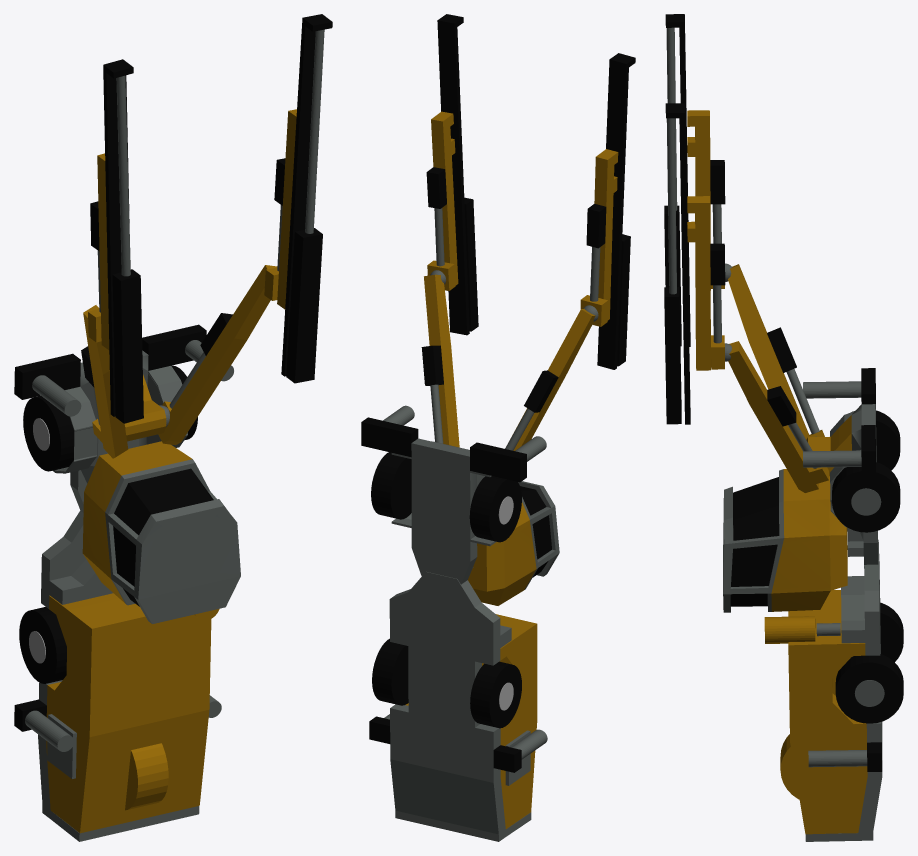
The model's file is sbu(hor).obj.
3 views of the same model, side by side, from view 1: azimuth 30°, elevation 25°; view 2: azimuth 150°, elevation 25°; view 3: azimuth 270°, elevation 25° (orthographic). The views are drawn at different scales.
Visible parts, largest first — view 1: Shape_IndexedFaceSet.035_Shape_IndexedFaceSet.436, Shape_IndexedFaceSet.008_Shape_IndexedFaceSet.409, Shape_IndexedFaceSet.033_Shape_IndexedFaceSet.434, Shape_IndexedFaceSet.005_Shape_IndexedFaceSet.406, Shape_IndexedFaceSet.007_Shape_IndexedFaceSet.408, Shape_IndexedFaceSet.025_Shape_IndexedFaceSet.426, Shape_IndexedFaceSet.009_Shape_IndexedFaceSet.410, Shape_IndexedFaceSet.002_Shape_IndexedFaceSet.403, Shape_IndexedFaceSet.010_Shape_IndexedFaceSet.411, Shape_IndexedFaceSet.031_Shape_IndexedFaceSet.432, Shape_IndexedFaceSet.030_Shape_IndexedFaceSet.431, Shape_IndexedFaceSet.012_Shape_IndexedFaceSet.413 (+12 smaller); view 2: Shape_IndexedFaceSet.033_Shape_IndexedFaceSet.434, Shape_IndexedFaceSet.010_Shape_IndexedFaceSet.411, Shape_IndexedFaceSet.002_Shape_IndexedFaceSet.403, Shape_IndexedFaceSet.030_Shape_IndexedFaceSet.431, Shape_IndexedFaceSet.035_Shape_IndexedFaceSet.436, Shape_IndexedFaceSet.007_Shape_IndexedFaceSet.408, Shape_IndexedFaceSet.012_Shape_IndexedFaceSet.413, Shape_IndexedFaceSet.005_Shape_IndexedFaceSet.406, Shape_IndexedFaceSet.022_Shape_IndexedFaceSet.423, Shape_IndexedFaceSet.028_Shape_IndexedFaceSet.429, Shape_IndexedFaceSet.020_Shape_IndexedFaceSet.421, Shape_IndexedFaceSet.016_Shape_IndexedFaceSet.417 (+14 smaller); view 3: Shape_IndexedFaceSet.035_Shape_IndexedFaceSet.436, Shape_IndexedFaceSet.007_Shape_IndexedFaceSet.408, Shape_IndexedFaceSet.033_Shape_IndexedFaceSet.434, Shape_IndexedFaceSet.009_Shape_IndexedFaceSet.410, Shape_IndexedFaceSet.005_Shape_IndexedFaceSet.406, Shape_IndexedFaceSet.022_Shape_IndexedFaceSet.423, Shape_IndexedFaceSet.013_Shape_IndexedFaceSet.414, Shape_IndexedFaceSet.018_Shape_IndexedFaceSet.419, Shape_IndexedFaceSet.026_Shape_IndexedFaceSet.427, Shape_IndexedFaceSet.008_Shape_IndexedFaceSet.409, Shape_IndexedFaceSet.002_Shape_IndexedFaceSet.403, Shape_IndexedFaceSet.025_Shape_IndexedFaceSet.426 (+24 smaller).
Part boxes in pixels (x1,y1,x2,y2): Shape_IndexedFaceSet.035_Shape_IndexedFaceSet.436: (46,593,211,833); Shape_IndexedFaceSet.008_Shape_IndexedFaceSet.409: (105,459,240,623); Shape_IndexedFaceSet.033_Shape_IndexedFaceSet.434: (38,510,199,841); Shape_IndexedFaceSet.005_Shape_IndexedFaceSet.406: (158,265,277,445); Shape_IndexedFaceSet.007_Shape_IndexedFaceSet.408: (82,441,192,602); Shape_IndexedFaceSet.025_Shape_IndexedFaceSet.426: (286,228,322,383); Shape_IndexedFaceSet.009_Shape_IndexedFaceSet.410: (113,468,213,606); Shape_IndexedFaceSet.002_Shape_IndexedFaceSet.403: (281,14,332,376); Shape_IndexedFaceSet.010_Shape_IndexedFaceSet.411: (53,350,187,512); Shape_IndexedFaceSet.031_Shape_IndexedFaceSet.432: (112,269,143,423); Shape_IndexedFaceSet.030_Shape_IndexedFaceSet.431: (103,59,133,416); Shape_IndexedFaceSet.012_Shape_IndexedFaceSet.413: (14,324,206,399); Shape_IndexedFaceSet.033_Shape_IndexedFaceSet.434: (389,571,531,841); Shape_IndexedFaceSet.010_Shape_IndexedFaceSet.411: (391,438,496,584); Shape_IndexedFaceSet.002_Shape_IndexedFaceSet.403: (437,14,469,335); Shape_IndexedFaceSet.030_Shape_IndexedFaceSet.431: (597,53,635,369); Shape_IndexedFaceSet.035_Shape_IndexedFaceSet.436: (405,614,537,828); Shape_IndexedFaceSet.007_Shape_IndexedFaceSet.408: (468,502,536,605); Shape_IndexedFaceSet.012_Shape_IndexedFaceSet.413: (361,417,526,482); Shape_IndexedFaceSet.005_Shape_IndexedFaceSet.406: (424,274,459,447); Shape_IndexedFaceSet.022_Shape_IndexedFaceSet.423: (427,111,458,290); Shape_IndexedFaceSet.028_Shape_IndexedFaceSet.429: (580,149,618,326); Shape_IndexedFaceSet.020_Shape_IndexedFaceSet.421: (469,476,521,542); Shape_IndexedFaceSet.016_Shape_IndexedFaceSet.417: (470,661,521,728); Shape_IndexedFaceSet.035_Shape_IndexedFaceSet.436: (788,590,867,834); Shape_IndexedFaceSet.007_Shape_IndexedFaceSet.408: (771,469,847,611); Shape_IndexedFaceSet.033_Shape_IndexedFaceSet.434: (805,539,882,841); Shape_IndexedFaceSet.009_Shape_IndexedFaceSet.410: (730,477,779,606); Shape_IndexedFaceSet.005_Shape_IndexedFaceSet.406: (728,341,828,492); Shape_IndexedFaceSet.022_Shape_IndexedFaceSet.423: (687,196,724,370); Shape_IndexedFaceSet.013_Shape_IndexedFaceSet.414: (835,654,903,723); Shape_IndexedFaceSet.018_Shape_IndexedFaceSet.419: (832,462,900,532); Shape_IndexedFaceSet.026_Shape_IndexedFaceSet.427: (728,264,824,450); Shape_IndexedFaceSet.008_Shape_IndexedFaceSet.409: (723,469,784,612); Shape_IndexedFaceSet.002_Shape_IndexedFaceSet.403: (665,103,690,424); Shape_IndexedFaceSet.025_Shape_IndexedFaceSet.426: (664,287,681,424).
Size of the model in its own units: 17.74 by 64.92 by 18.62.
